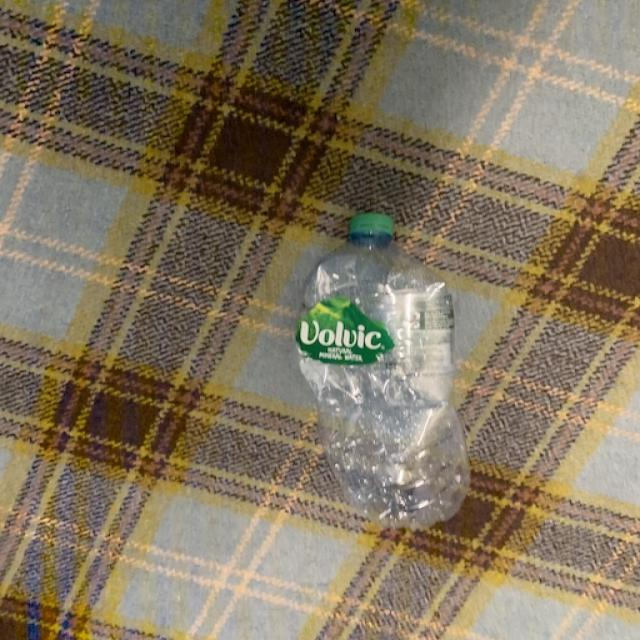Waste: (296, 213, 471, 530)
